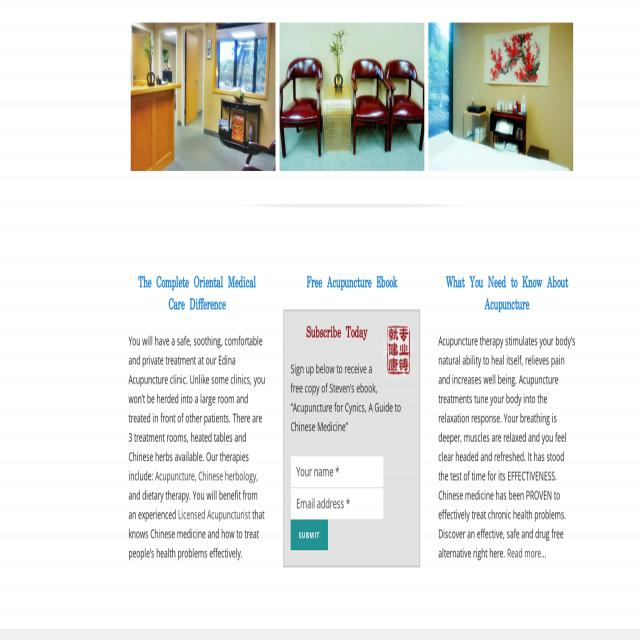button: (428, 22, 574, 172), (131, 23, 275, 171), (280, 23, 424, 171), (291, 520, 328, 550)
field: (291, 455, 384, 488), (291, 488, 384, 520)
